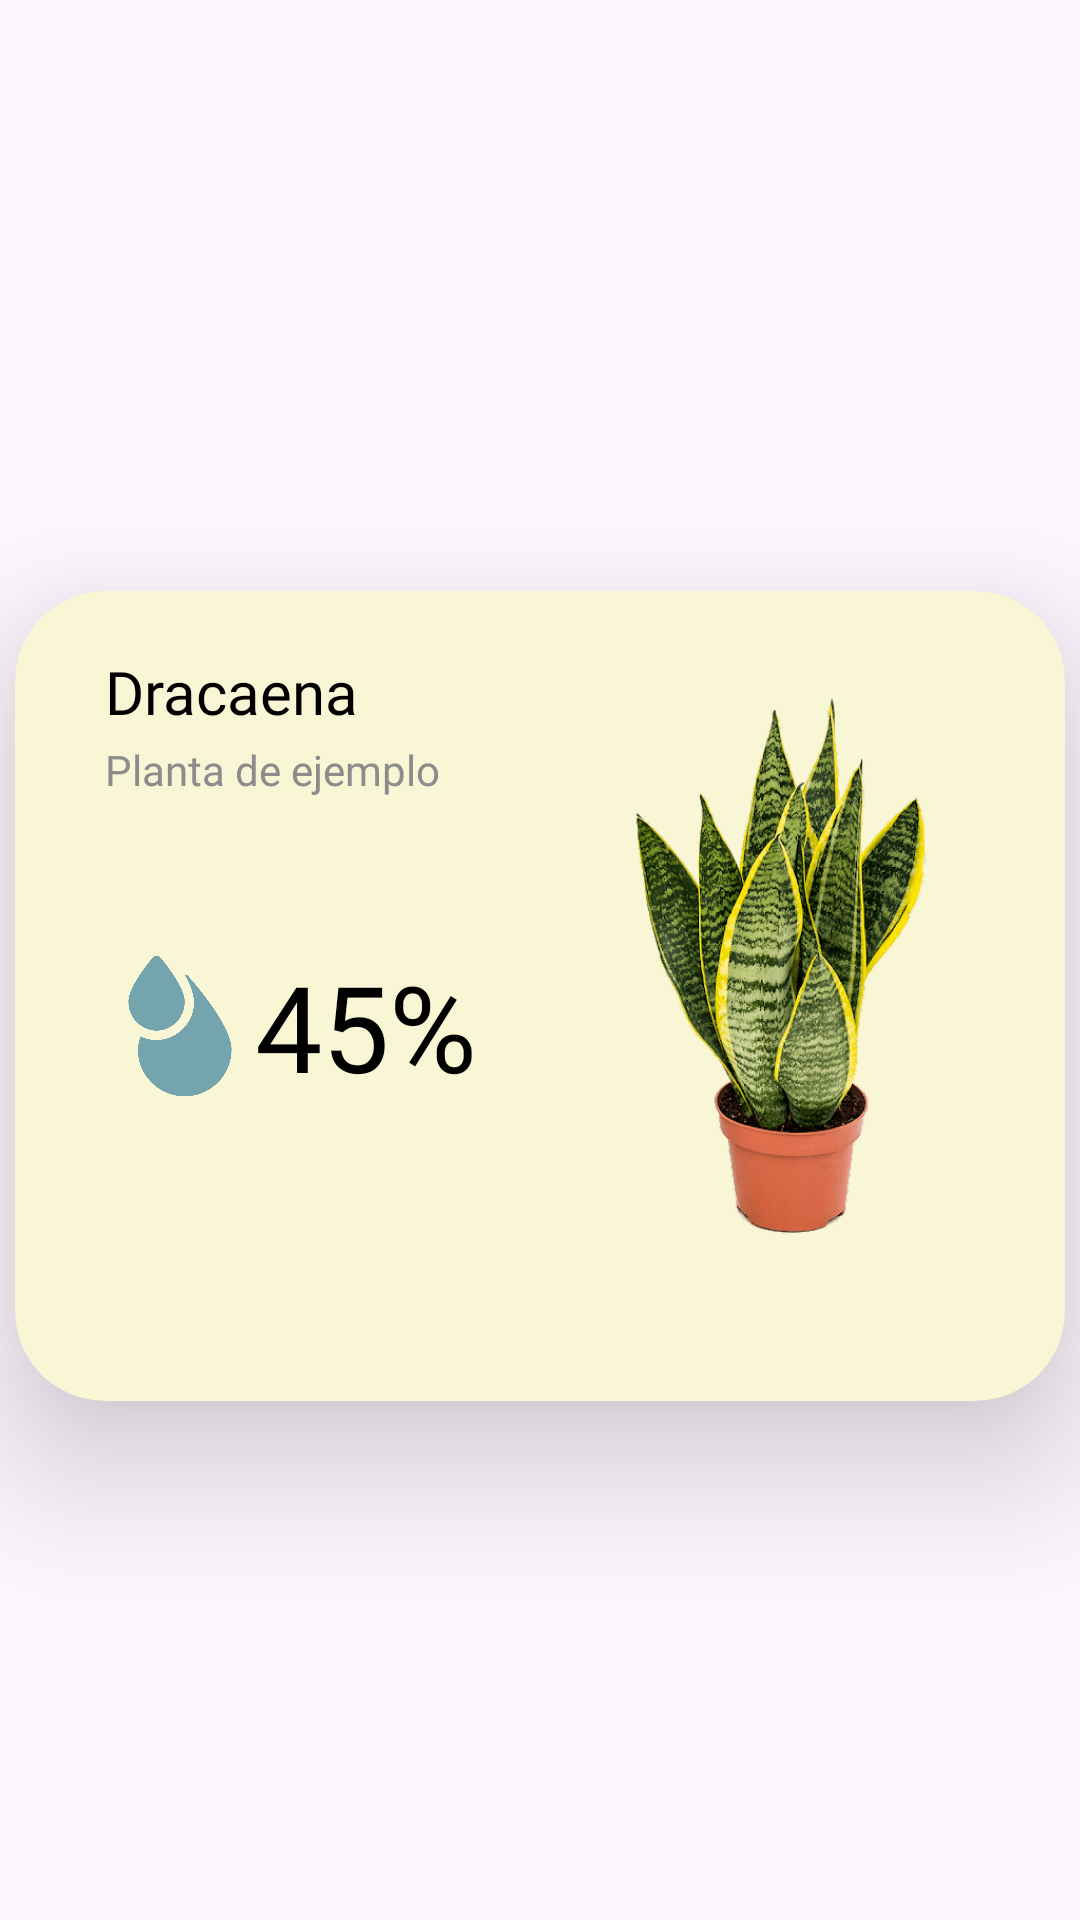

Named icons in this screenshot (1080x1920) and their bounding boxes, (x1, y1, x2, y2):
gotas: (128, 955, 232, 1096)
